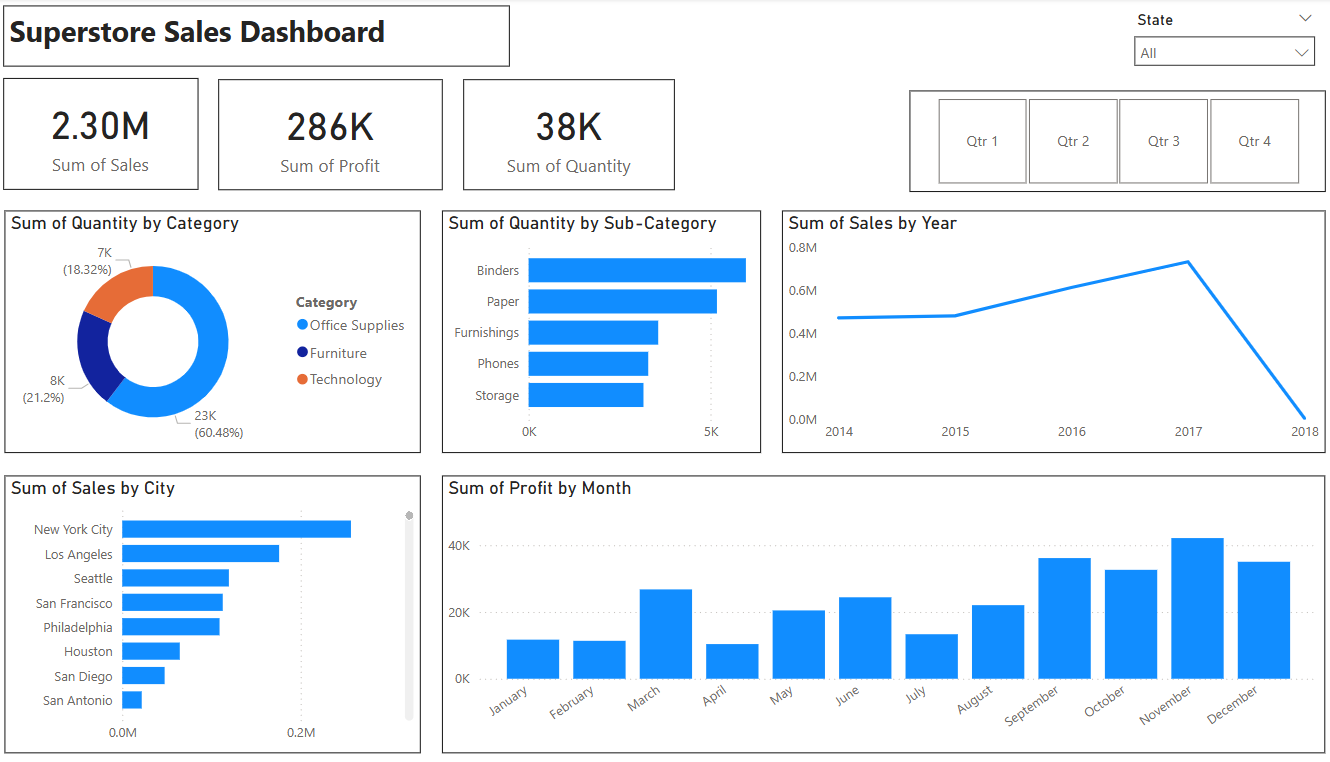

The page's visual inventory and layout, read from the dashboard file:
{"tool":"powerbi","page":{"name":"Page 1","canvas":[1280,720],"ordinal":0},"visuals":[{"type":"card","title":"Total Sales","fields":{"Values":["Sum(Sample - Superstore.Sales)"]},"box":[24.3,75,181.4,104.3],"z":0},{"type":"textbox","box":[24.3,7.1,471.4,57.1],"z":1000},{"type":"card","title":"Total Sales","fields":{"Values":["Sum(Sample - Superstore.Profit)"]},"box":[224.3,75.7,208.6,102.9],"z":2000},{"type":"card","title":"Total Sales","fields":{"Values":["Sum(Sample - Superstore.Quantity)"]},"box":[452.9,75.7,197.1,102.9],"z":3000},{"type":"donutChart","fields":{"Category":["Sample - Superstore.Category"],"Y":["Sum(Sample - Superstore.Quantity)"]},"box":[25.7,197.1,387.1,225.7],"z":4000},{"type":"barChart","fields":{"Category":["Sample - Superstore.City"],"Y":["Sum(Sample - Superstore.Sales)"]},"box":[25.7,444.3,387.1,258.6],"z":5000},{"type":"barChart","fields":{"Category":["Sample - Superstore.Sub-Category"],"Y":["Sum(Sample - Superstore.Quantity)"]},"box":[432.9,197.1,297.1,225.7],"z":6000},{"type":"columnChart","fields":{"Y":["Sum(Sample - Superstore.Profit)"],"Category":["Sample - Superstore.Ship Date.Variation.Date Hierarchy.Month"]},"box":[432.9,444.3,821.4,258.6],"z":7000},{"type":"slicer","fields":{"Values":["Sample - Superstore.Ship Date.Variation.Date Hierarchy.Quarter"]},"box":[867.1,85.7,387.1,94.3],"z":8000},{"type":"slicer","fields":{"Values":["Sample - Superstore.State"]},"box":[1065.7,7.1,188.6,77.1],"z":9000},{"type":"lineChart","fields":{"Y":["Sum(Sample - Superstore.Sales)"],"Category":["Sample - Superstore.Ship Date.Variation.Date Hierarchy.Year"]},"box":[748.6,197.1,505.7,225.7],"z":10000}]}

Visuals, with their boxes in screenshot pixels (x1, y1, x2, y2), scaled from the page's 1280x720 canvas onto the 1330x762 screenshot:
"Total Sales" card: [25,79,214,190]
textbox: [25,8,515,68]
"Total Sales" card: [233,80,450,189]
"Total Sales" card: [471,80,675,189]
donutChart - Sample - Superstore.Category x Sum(Sample - Superstore.Quantity): [27,209,429,447]
barChart - Sample - Superstore.City x Sum(Sample - Superstore.Sales): [27,470,429,744]
barChart - Sample - Superstore.Sub-Category x Sum(Sample - Superstore.Quantity): [450,209,759,447]
columnChart - Sum(Sample - Superstore.Profit) x Sample - Superstore.Ship Date.Variation.Date Hierarchy.Month: [450,470,1303,744]
slicer - Sample - Superstore.Ship Date.Variation.Date Hierarchy.Quarter: [901,91,1303,190]
slicer - Sample - Superstore.State: [1107,8,1303,89]
lineChart - Sum(Sample - Superstore.Sales) x Sample - Superstore.Ship Date.Variation.Date Hierarchy.Year: [778,209,1303,447]
